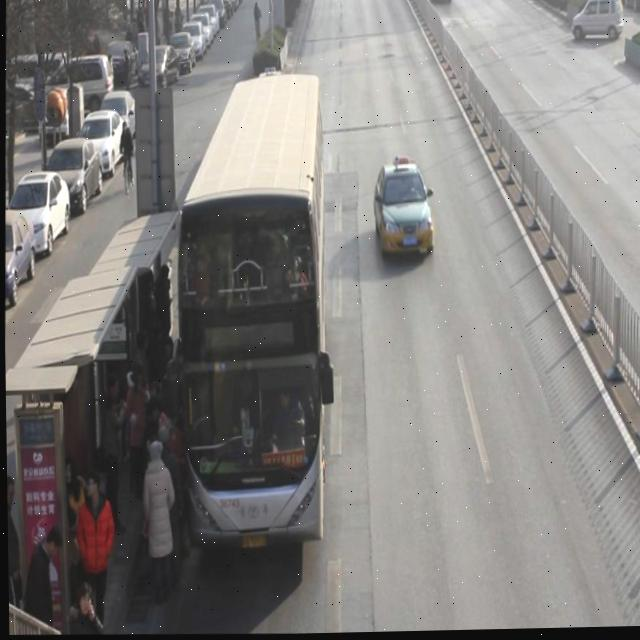car: (371, 159, 435, 266), (428, 0, 452, 8)
truck: (572, 0, 625, 48)
van: (167, 78, 328, 551)
